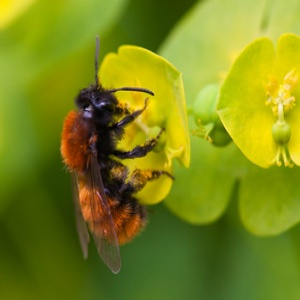bee: (61, 37, 157, 276)
